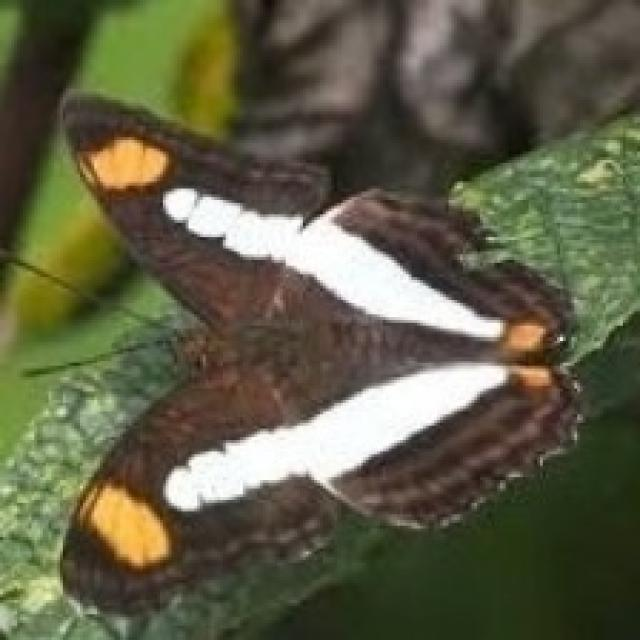butterfly: (0, 86, 586, 617)
